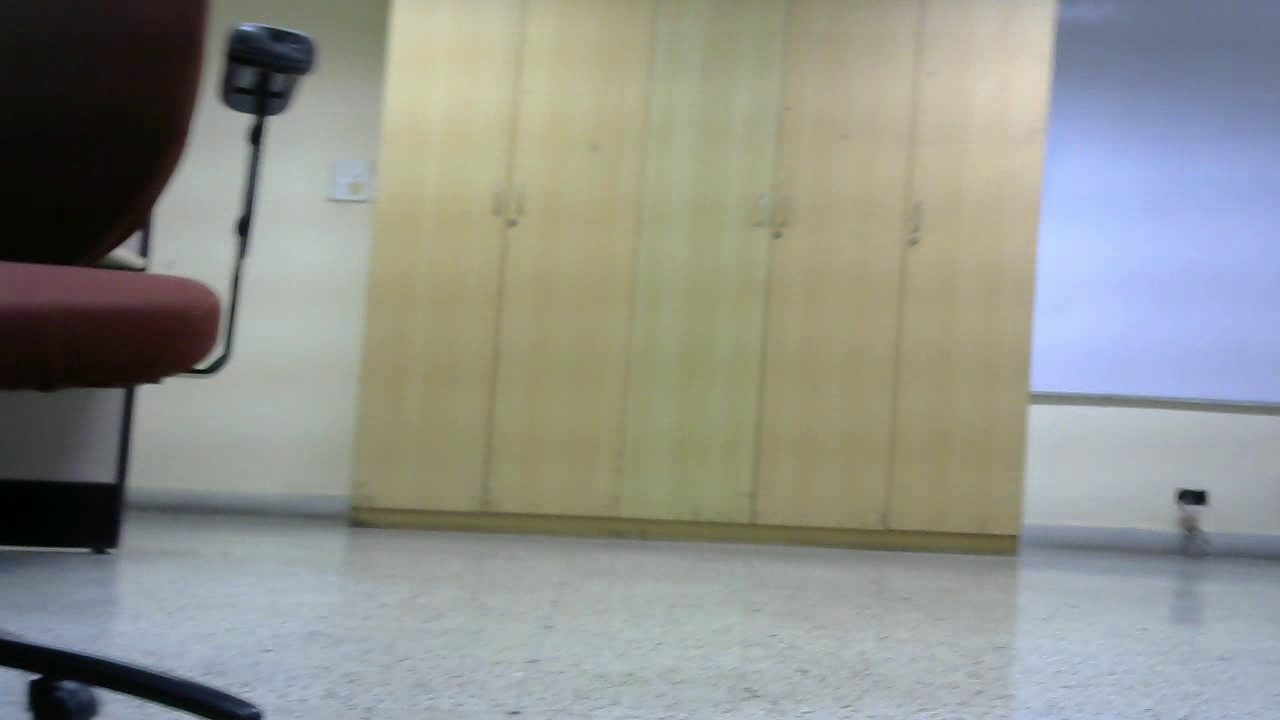chair: (709, 172, 1053, 605), (274, 145, 497, 533)
